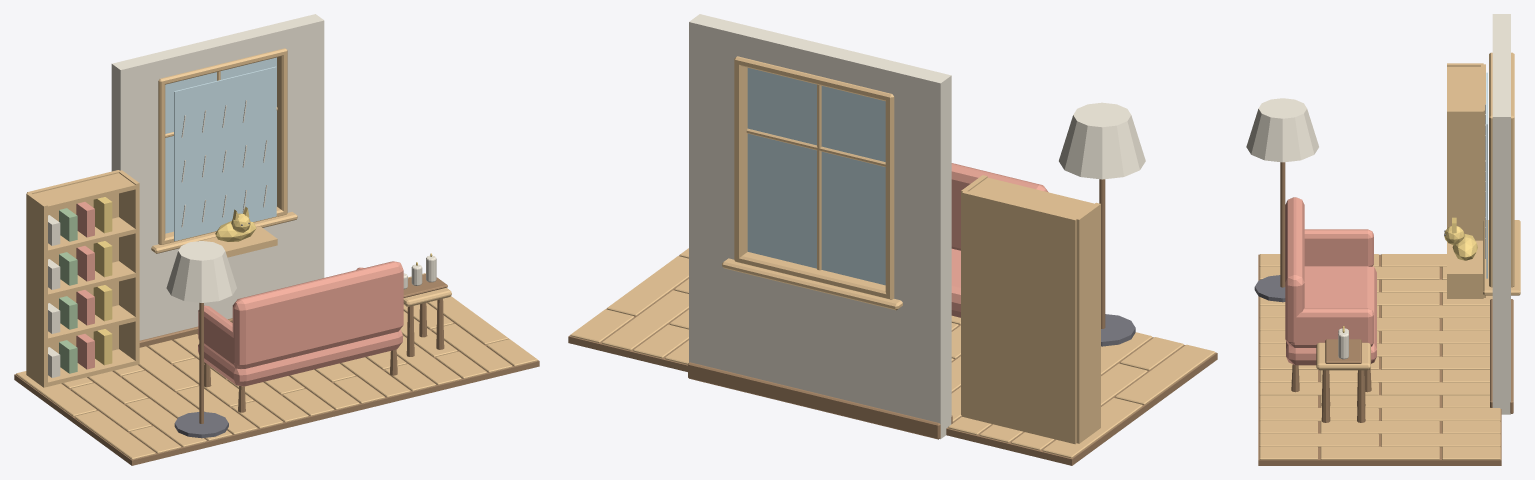
File: cozy-home-interiors-rainy-window-evening-0d572e92.glb
3 renders of one model, left to right at view 1: azimuth 30°, elevation 25°; view 2: azimuth 150°, elevation 25°; view 3: azimuth 270°, elevation 25°, orthographic. The views are drawn at different scales.
Visible parts, largest first — view 1: 002-wall-window-2m/0, 004-sofa-two-seat/1, 000-floor-wood-2m/1, 003-rain-window-plane/0, 007-bookcase/0, 001-floor-wood-2m/1, 002-wall-window-2m/2, 009-floor-lamp/2, 000-floor-wood-2m/0, 007-bookcase/4, 002-wall-window-2m/3, 007-bookcase/3 (+11 smaller); view 2: 002-wall-window-2m/0, 007-bookcase/0, 002-wall-window-2m/3, 002-wall-window-2m/2, 000-floor-wood-2m/1, 001-floor-wood-2m/1, 009-floor-lamp/2, 002-wall-window-2m/1, 000-floor-wood-2m/0, 004-sofa-two-seat/1, 001-floor-wood-2m/0, 009-floor-lamp/0 (+1 smaller); view 3: 001-floor-wood-2m/1, 000-floor-wood-2m/1, 004-sofa-two-seat/1, 002-wall-window-2m/0, 007-bookcase/0, 009-floor-lamp/2, 002-wall-window-2m/2, 001-floor-wood-2m/0, 008-cat-on-sill/0, 005-side-table/0, 008-cat-on-sill/1, 005-side-table/1 (+8 smaller).
Part boxes in pixels (x1,y1,x2,y2): 002-wall-window-2m/0: (111, 14, 324, 340); 004-sofa-two-seat/1: (198, 261, 403, 386); 000-floor-wood-2m/1: (16, 334, 333, 459); 003-rain-window-plane/0: (174, 66, 276, 241); 007-bookcase/0: (26, 170, 139, 387); 001-floor-wood-2m/1: (289, 296, 537, 409); 002-wall-window-2m/2: (151, 48, 297, 253); 009-floor-lamp/2: (166, 241, 236, 302); 000-floor-wood-2m/0: (14, 341, 335, 465); 007-bookcase/4: (93, 197, 112, 365); 002-wall-window-2m/3: (165, 57, 276, 233); 007-bookcase/3: (76, 202, 94, 369); 002-wall-window-2m/0: (689, 14, 951, 439); 007-bookcase/0: (961, 175, 1100, 444); 002-wall-window-2m/3: (747, 68, 885, 285); 002-wall-window-2m/2: (722, 56, 902, 310); 000-floor-wood-2m/1: (948, 315, 1215, 458); 001-floor-wood-2m/1: (570, 248, 688, 364); 009-floor-lamp/2: (1059, 102, 1145, 179); 002-wall-window-2m/1: (688, 362, 952, 439); 000-floor-wood-2m/0: (946, 324, 1217, 465); 004-sofa-two-seat/1: (951, 163, 1048, 317); 001-floor-wood-2m/0: (568, 255, 688, 371); 009-floor-lamp/0: (1101, 314, 1135, 346); 001-floor-wood-2m/1: (1259, 356, 1500, 459); 000-floor-wood-2m/1: (1259, 254, 1492, 357); 004-sofa-two-seat/1: (1285, 197, 1376, 365); 002-wall-window-2m/0: (1492, 14, 1510, 414); 007-bookcase/0: (1447, 63, 1485, 298); 009-floor-lamp/2: (1246, 98, 1318, 162); 002-wall-window-2m/2: (1483, 52, 1520, 295); 001-floor-wood-2m/0: (1258, 357, 1501, 465); 008-cat-on-sill/0: (1447, 240, 1482, 280); 005-side-table/0: (1321, 370, 1365, 422); 008-cat-on-sill/1: (1444, 217, 1477, 260); 005-side-table/1: (1316, 342, 1370, 370).
Size of the model in its own units: 4 by 2.7 by 2.25.
